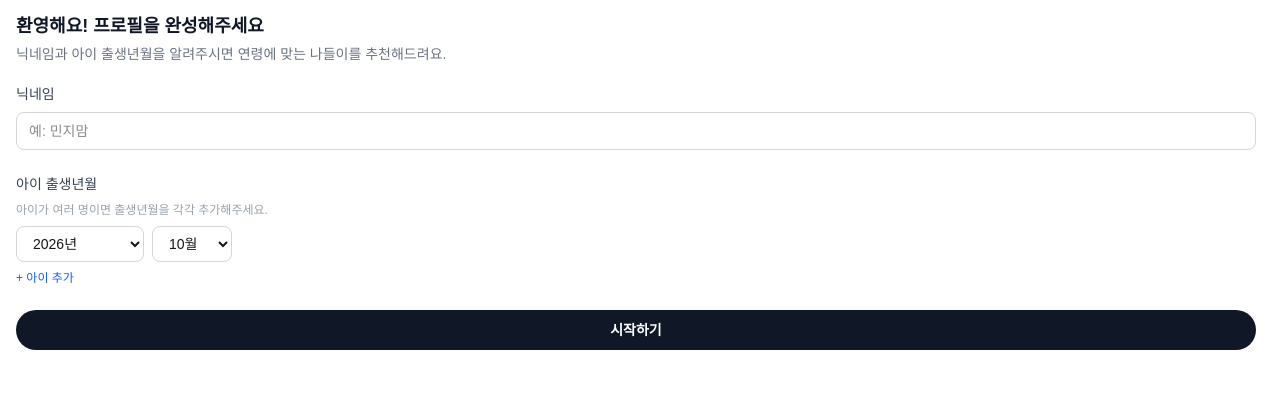
Test case: CompleteProfileView › 저장이 실패하면 에러 메시지를 보여주고 이동하지 않는다
In the field labelled "닉네임": (636, 131) x1=16 y1=112 x2=1256 y2=150, type "민지맘"
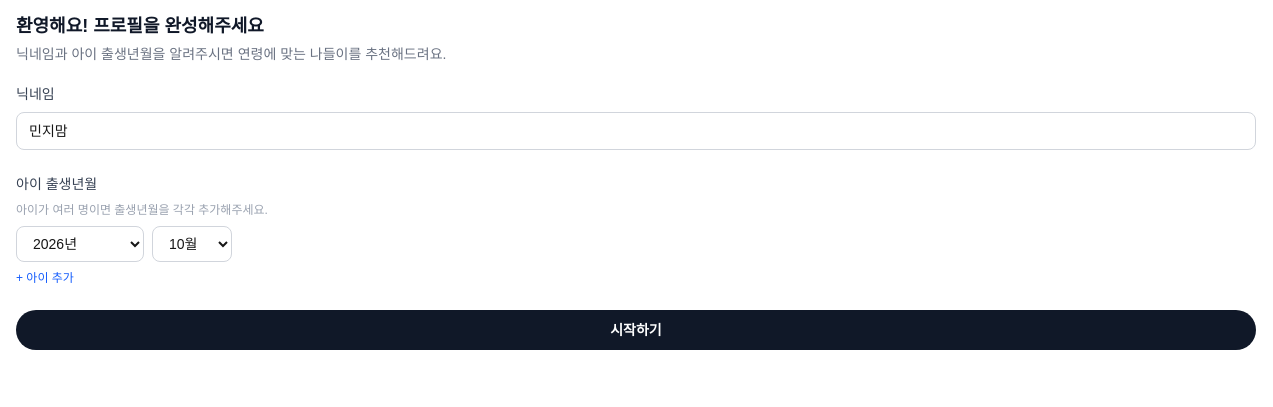
Click the button "시작하기": (636, 330) x1=16 y1=310 x2=1256 y2=350
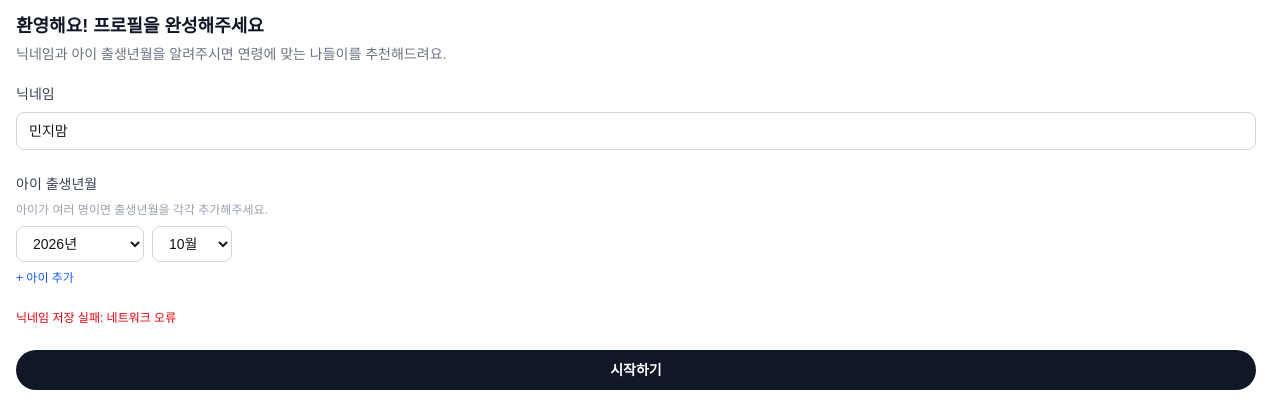
Now the text "닉네임 저장 실패: 네트워크 오류" is shown, box x1=16 y1=311 x2=176 y2=325
